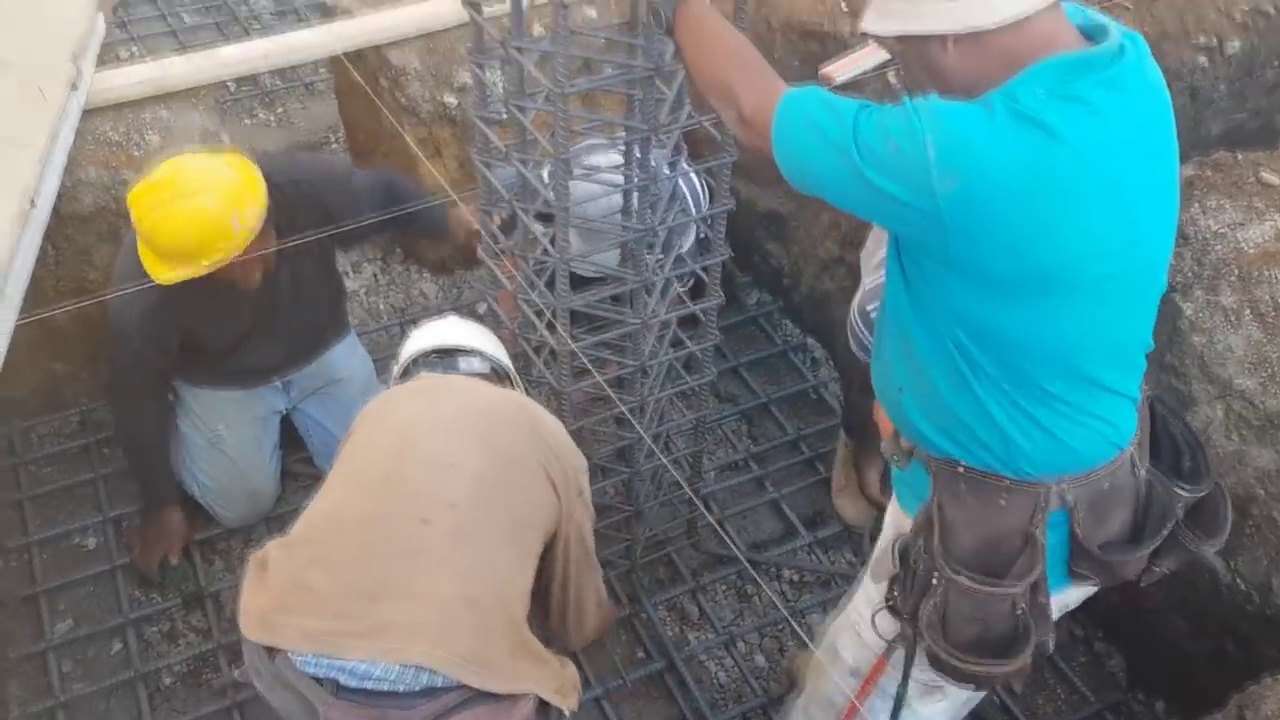helmet: (127, 141, 278, 285), (379, 313, 520, 393)
helmet-off: (852, 0, 1120, 116), (564, 150, 636, 284)
helmet-on: (109, 144, 277, 299), (381, 291, 531, 416)
person: (662, 0, 1225, 720), (114, 134, 484, 581), (230, 305, 613, 707), (487, 132, 715, 291)
